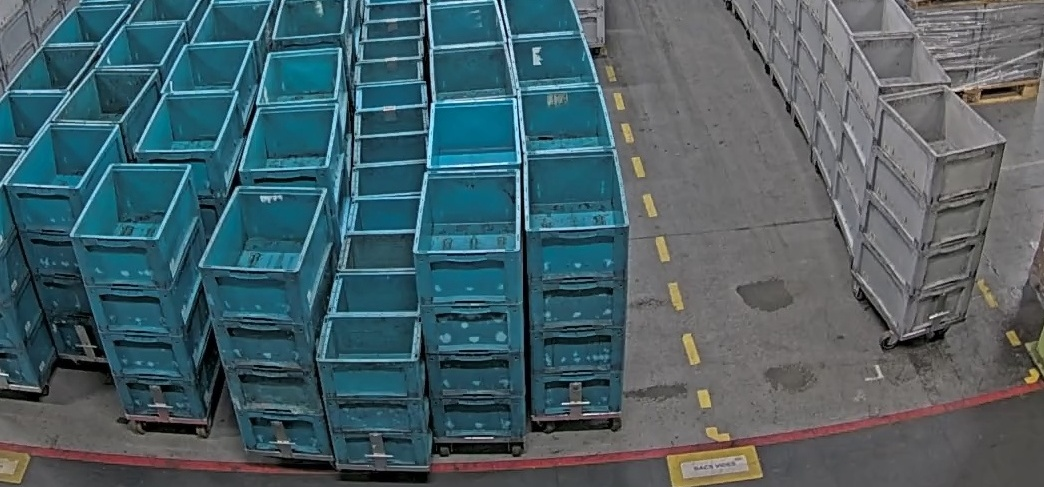4G: (850, 87, 1005, 337)
B4: (72, 163, 221, 422), (199, 186, 335, 456), (413, 168, 524, 443), (4, 123, 128, 366), (522, 148, 630, 421)
B8: (317, 271, 430, 467)
